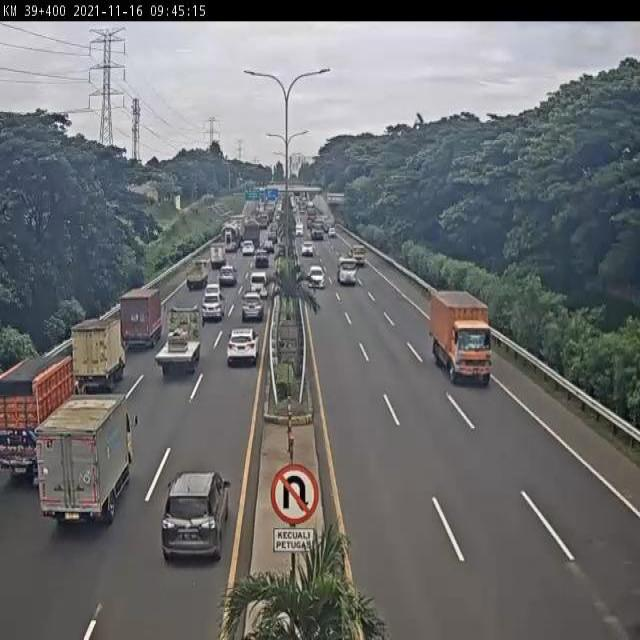car: (159, 472, 229, 563), (227, 327, 259, 365), (240, 292, 264, 323), (201, 295, 224, 321), (218, 263, 237, 285), (202, 281, 220, 299)
small bus: (248, 272, 267, 297)
small truck: (42, 403, 134, 520), (68, 320, 127, 387), (186, 259, 209, 288), (208, 242, 225, 266)
truck-m-: (0, 357, 77, 479), (430, 289, 494, 387), (153, 312, 199, 381), (118, 289, 160, 351)
